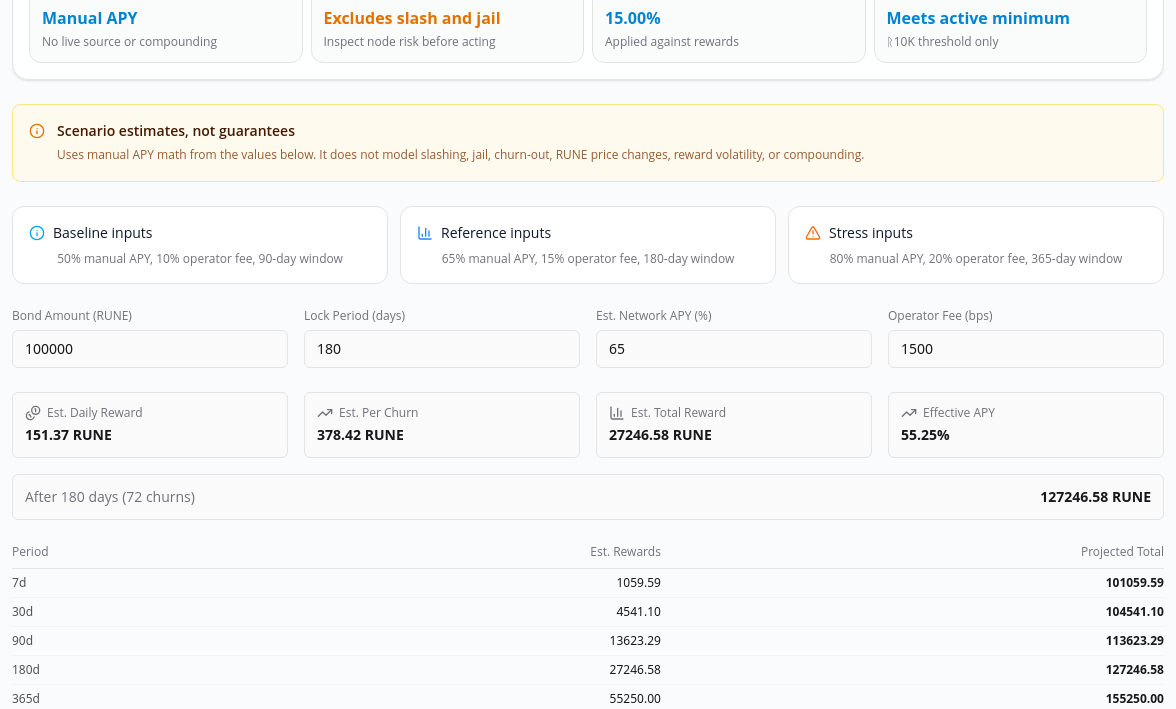
Test: BondSimulator trust copy › treats a blank APY field as missing input without turning it into zero percent
The width and height of the screenshot is (1176, 709).
(page scrolled)
Step 1. Clear the number field labelled "Est. Network APY (%)" → (734, 349), box [596,330,872,368]
(page scrolled)
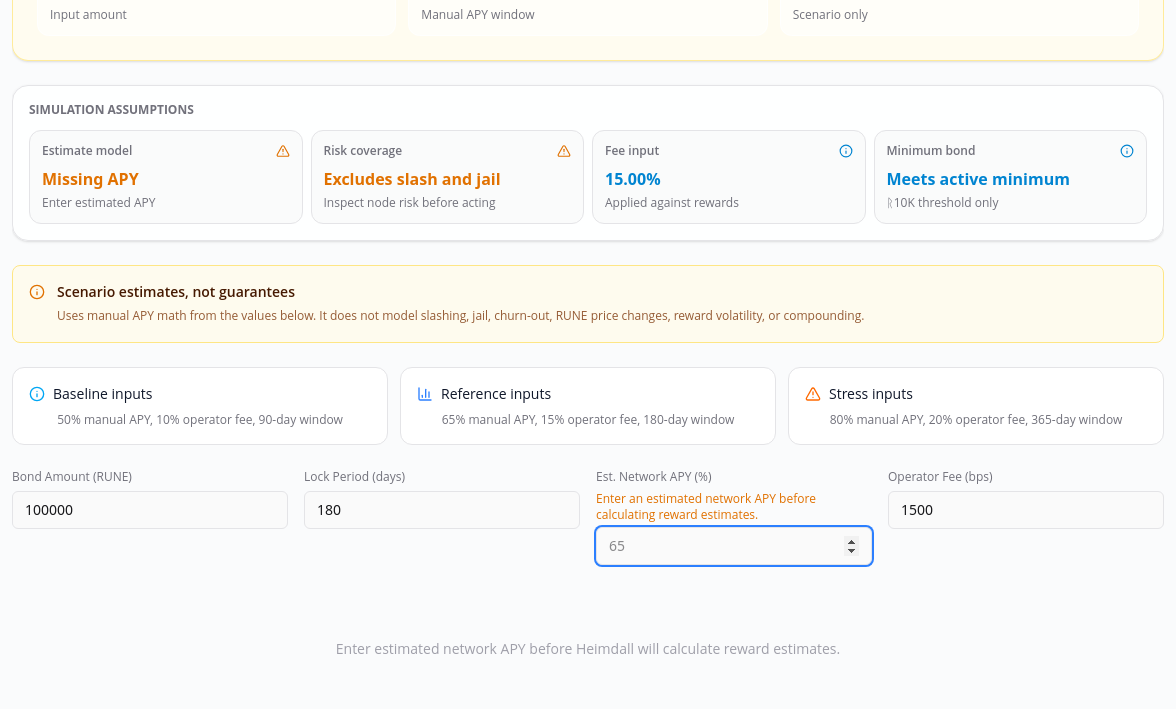
Now the text "Missing APY" is shown, box [42,168,139,190]
Now the text "Enter estimated APY" is shown, box [42,194,156,211]
Now the text "Enter an estimated network APY before calculating reward estimates." is shown, box [596,490,816,523]
Step 2. Type "0" into the number field labelled "Est. Network APY (%)" → (734, 546), box [596,527,872,565]
(page scrolled)
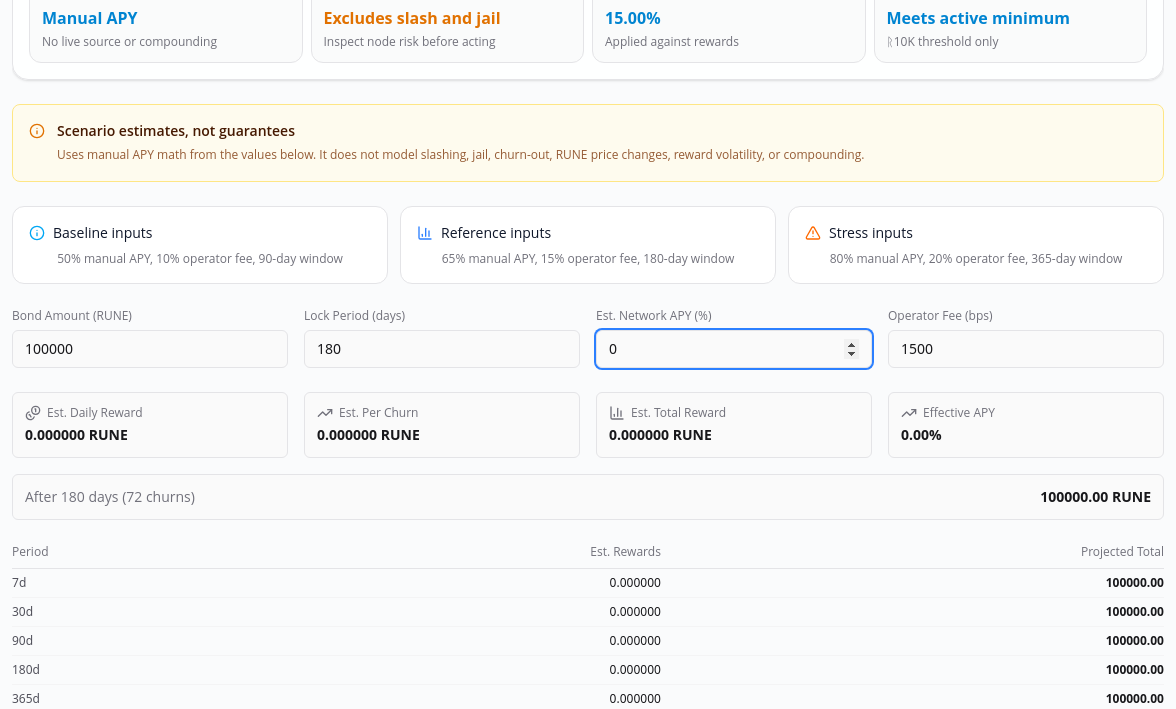
Now the text "Est. Daily Reward" is shown, box [47,405,142,421]
Now the text "Missing APY" is gone
